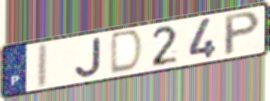2: (151, 24, 180, 68)
4: (187, 16, 221, 61)
D: (108, 29, 145, 77)
I: (35, 42, 50, 91)
J: (73, 35, 103, 79)
P: (223, 9, 263, 58)
